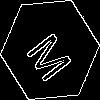M: (25, 25, 81, 85)
